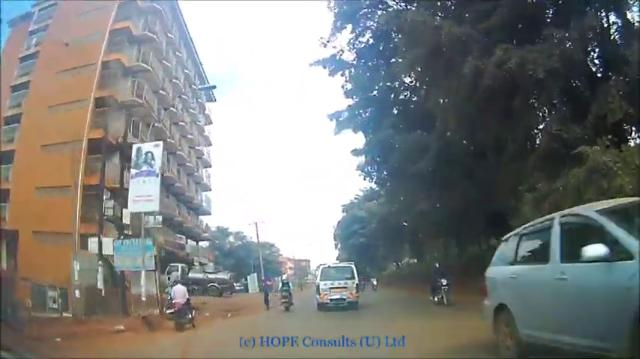car: (484, 191, 640, 359), (426, 272, 450, 307), (278, 280, 294, 310)
van: (314, 262, 358, 312)
